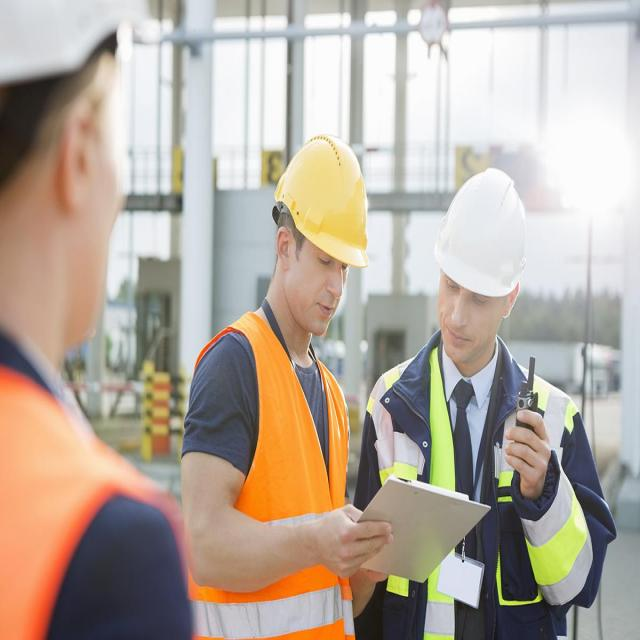Reflective-Jacket: (367, 338, 589, 636), (182, 304, 354, 636)
Safety-Helmet: (269, 127, 376, 271), (431, 161, 534, 301)
